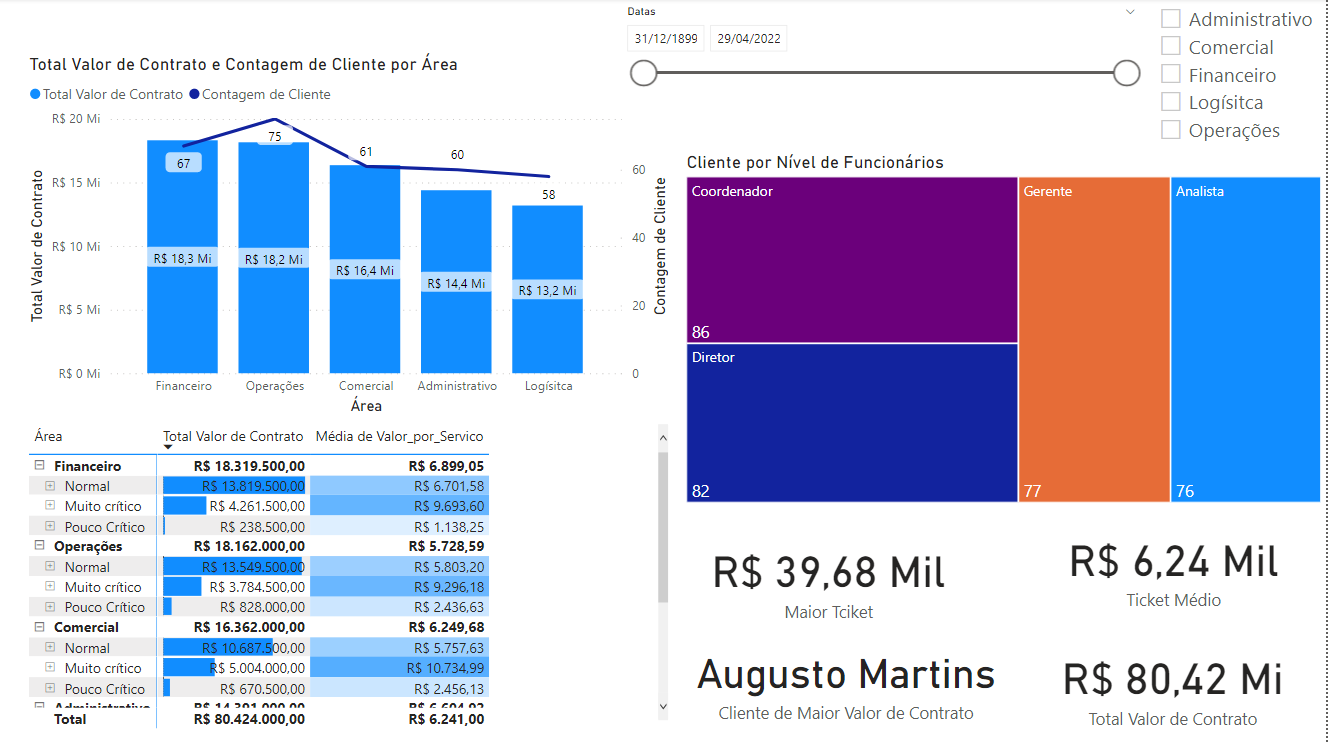

Layout of this report page (visuals, bound fields, positions):
{"tool":"powerbi","page":{"name":"Clientes","canvas":[1280,720],"ordinal":1},"visuals":[{"type":"lineStackedColumnComboChart","fields":{"Y2":["BaseClientes.Cliente"],"Y":["BaseClientes.Total Valor de Contrato"],"Category":["BaseCargos.Área"]},"box":[23.7,53.4,626.4,353.5],"z":0},{"type":"pivotTable","fields":{"Rows":["BaseCargos.Área","BaseClientes.Critico","BaseClientes.Cliente"],"Values":["BaseClientes.Total Valor de Contrato","BaseClientes.Valor_por_Servico"]},"box":[23.7,406.9,626.4,303.7],"z":1000},{"type":"slicer","fields":{"Values":["BaseCargos.Área"]},"box":[1108,0,172,148.3],"z":2000},{"type":"slicer","fields":{"Values":["BaseCalendario.Datas"]},"box":[592.9,1.4,515.7,98.4],"z":3000},{"type":"card","fields":{"Values":["BaseClientes.Total Valor de Contrato"]},"box":[985.7,606.6,294.3,113.1],"z":4000},{"type":"card","fields":{"Values":["BaseClientes.Cliente"]},"box":[649,597.6,336.7,122.1],"z":5000},{"type":"card","fields":{"Values":["BaseClientes.Valor_por_Servico"]},"box":[990.8,478.1,284,142.7],"z":6000},{"type":"treemap","title":"Cliente por Nível de Funcionários","fields":{"Values":["BaseClientes.Cliente"],"Group":["BaseCargos.Nível"]},"box":[658,147.8,622,343.1],"z":7000},{"type":"card","fields":{"Values":["BaseClientes.Maior Tciket"]},"box":[658,499.9,284,119.5],"z":8000}]}

Visuals, with their boxes in screenshot pixels (x1, y1, x2, y2), scaled from the page's 1280x720 canvas onto the 1328x742 screenshot:
lineStackedColumnComboChart - BaseClientes.Cliente x BaseClientes.Total Valor de Contrato: pyautogui.locateOnScreen(25, 55, 674, 419)
pivotTable - BaseCargos.Área x BaseClientes.Critico: pyautogui.locateOnScreen(25, 419, 674, 732)
slicer - BaseCargos.Área: pyautogui.locateOnScreen(1150, 0, 1327, 153)
slicer - BaseCalendario.Datas: pyautogui.locateOnScreen(615, 1, 1150, 103)
card - BaseClientes.Total Valor de Contrato: pyautogui.locateOnScreen(1023, 625, 1327, 741)
card - BaseClientes.Cliente: pyautogui.locateOnScreen(673, 616, 1023, 741)
card - BaseClientes.Valor_por_Servico: pyautogui.locateOnScreen(1028, 493, 1323, 640)
"Cliente por Nível de Funcionários" treemap: pyautogui.locateOnScreen(683, 152, 1327, 506)
card - BaseClientes.Maior Tciket: pyautogui.locateOnScreen(683, 515, 977, 638)
